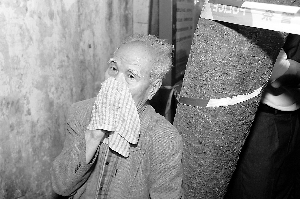face: (104, 47, 150, 109)
